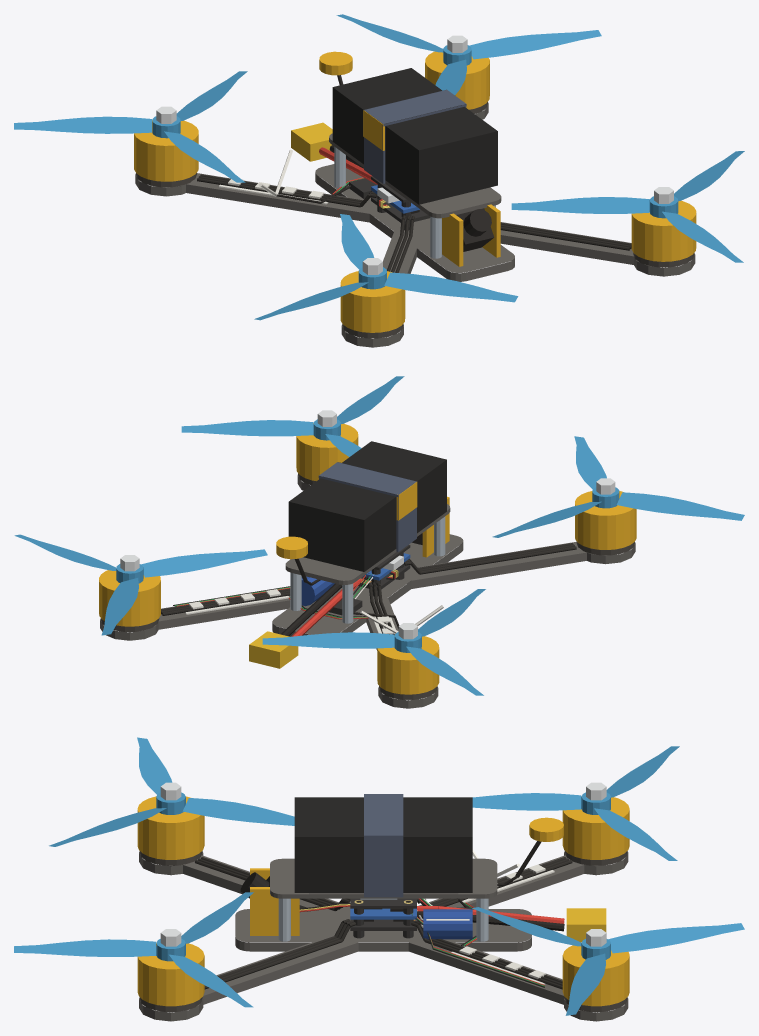
Rendered from racer.glb.
3 renders of one model, top to bottom at view 1: azimuth 30°, elevation 25°; view 2: azimuth 150°, elevation 25°; view 3: azimuth 270°, elevation 25°, orthographic. The views are drawn at different scales.
Visible parts, largest first — view 1: static, static.cover, prop:M1, prop:M4, prop:M2, prop:M3; view 2: static, static.cover, prop:M3, prop:M1, prop:M2, prop:M4; view 3: static, static.cover, prop:M3, prop:M4, prop:M1, prop:M2.
Part boxes in pixels (x1=…): static: x1=134, y1=35, x2=696, y2=347; static.cover: x1=329, y1=68, x2=501, y2=258; prop:M1: x1=14, y1=71, x2=247, y2=182; prop:M4: x1=511, y1=151, x2=744, y2=262; prop:M2: x1=254, y1=214, x2=518, y2=320; prop:M3: x1=336, y1=14, x2=601, y2=94; static: x1=99, y1=410, x2=636, y2=708; static.cover: x1=285, y1=441, x2=450, y2=623; prop:M3: x1=14, y1=534, x2=267, y2=635; prop:M1: x1=262, y1=589, x2=485, y2=695; prop:M2: x1=492, y1=436, x2=744, y2=537; prop:M4: x1=181, y1=376, x2=404, y2=456; static: x1=137, y1=782, x2=629, y2=1021; static.cover: x1=270, y1=794, x2=497, y2=941; prop:M3: x1=472, y1=907, x2=744, y2=1015; prop:M4: x1=14, y1=892, x2=253, y2=1007; prop:M1: x1=472, y1=746, x2=679, y2=860; prop:M2: x1=49, y1=737, x2=294, y2=846.
Bounding box in the file's own units: 0.2658 × 0.0535 × 0.2957.
